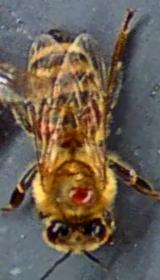varroa_mite: (24, 114, 62, 149), (62, 180, 101, 211), (78, 96, 105, 134)
